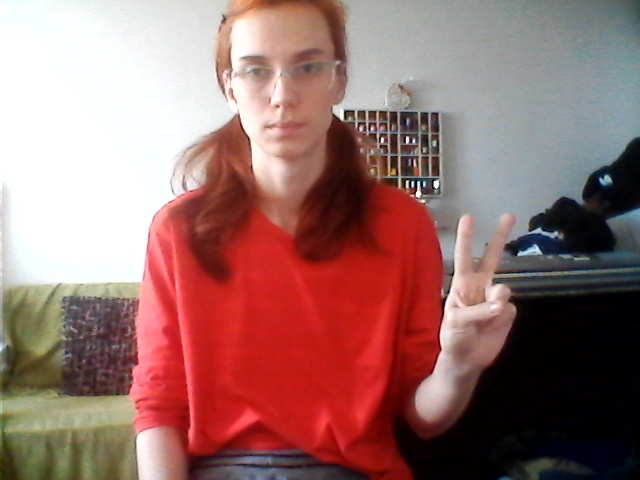v: (426, 206, 528, 365)
